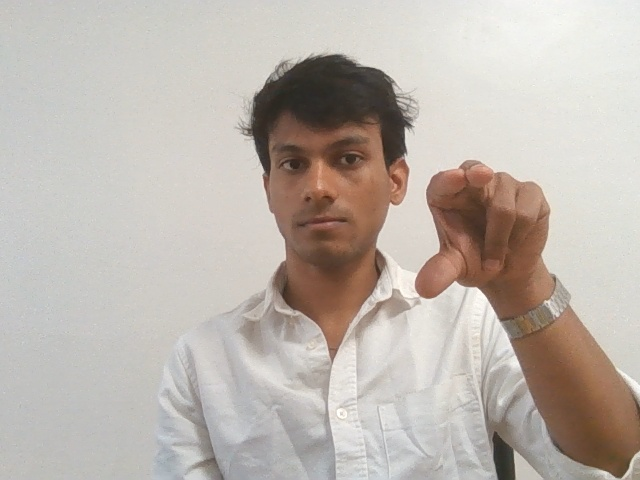No: (416, 151, 560, 317)
